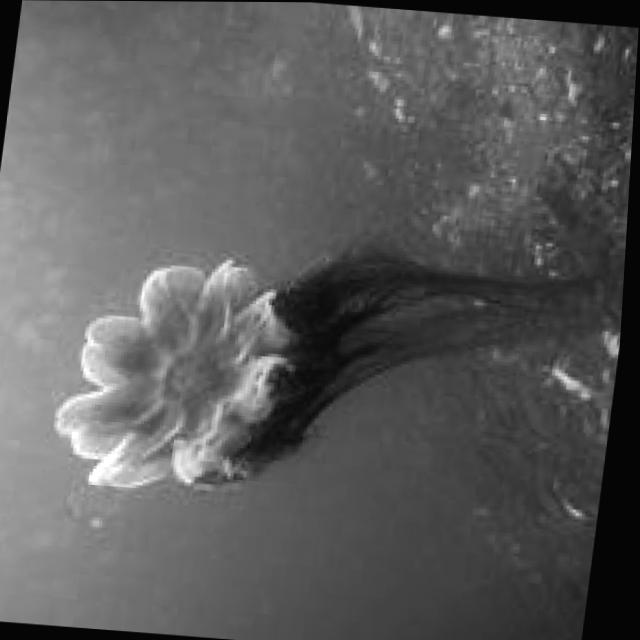Moon-jellyfish: (47, 211, 620, 523)
